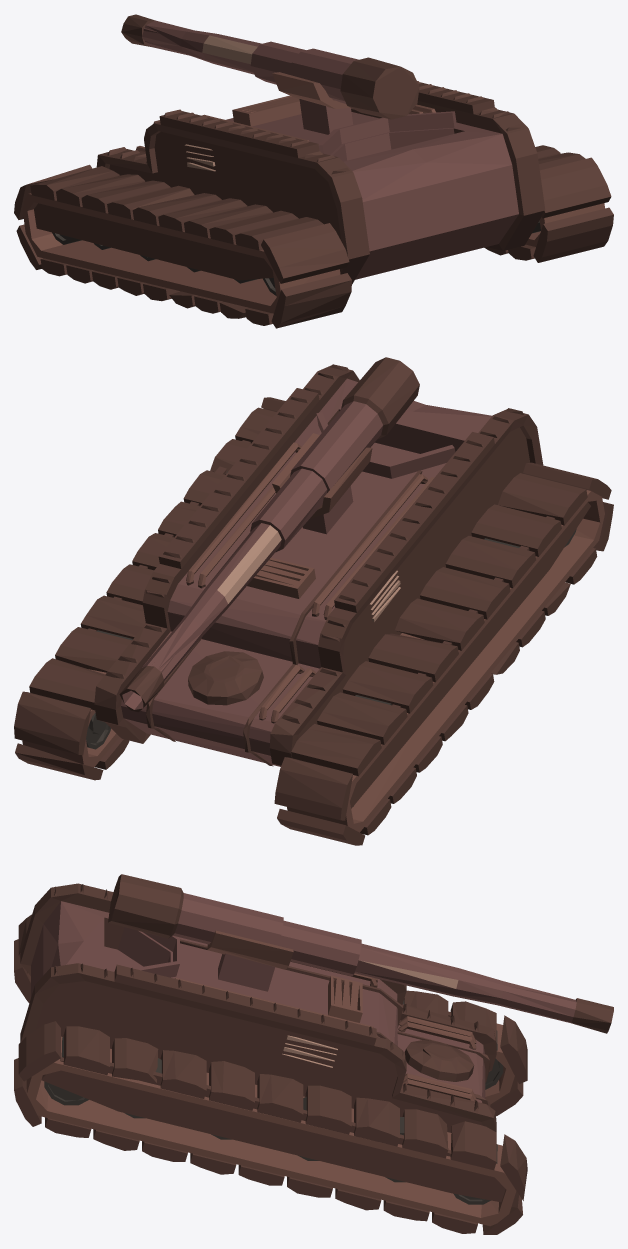
Rendered from tank_goldking.glb.
3 views of the same model, one above another, from view 1: azimuth 30°, elevation 25°; view 2: azimuth 150°, elevation 25°; view 3: azimuth 270°, elevation 25° (orthographic). The views are drawn at different scales.
Visible parts, largest first — view 1: TankBody, TankTurret; view 2: TankBody, TankTurret; view 3: TankBody, TankTurret.
Boxes of the visible parts, bbox=[...] form: TankBody: bbox=[14, 81, 613, 328]; TankTurret: bbox=[121, 14, 419, 134]; TankBody: bbox=[14, 364, 613, 845]; TankTurret: bbox=[119, 357, 419, 712]; TankBody: bbox=[14, 883, 527, 1234]; TankTurret: bbox=[108, 874, 613, 1033].
Bounding box in the file's own units: 2.5 × 2.21 × 4.19.
